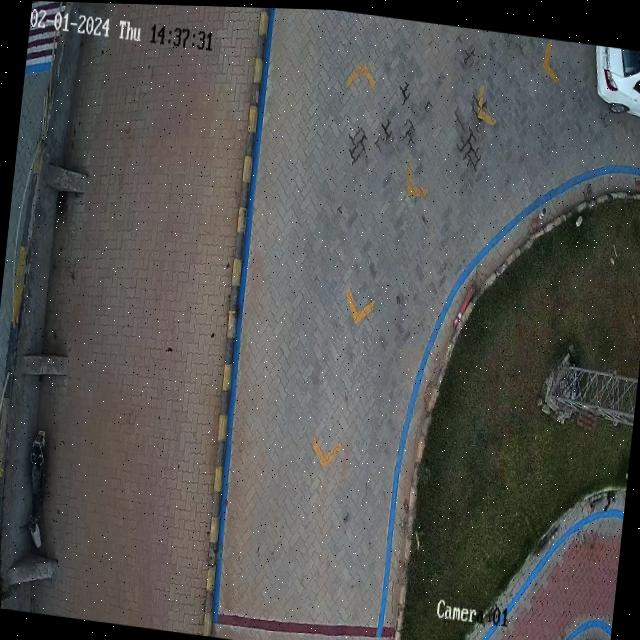car: (596, 42, 640, 114)
